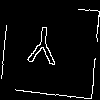Y: (25, 25, 59, 74)
